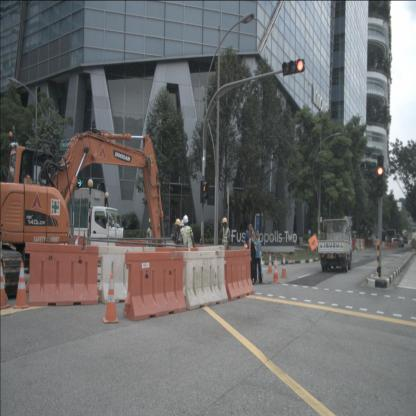barrier: (25, 242, 102, 306), (124, 252, 186, 322), (98, 247, 156, 304), (184, 250, 228, 310), (224, 249, 254, 302), (356, 238, 361, 250), (351, 239, 356, 250), (360, 239, 364, 250), (362, 240, 366, 249)
cone: (102, 273, 118, 323), (13, 262, 29, 309), (0, 262, 10, 310), (272, 257, 280, 282), (280, 256, 288, 278), (267, 253, 273, 274), (374, 243, 378, 251), (384, 242, 388, 249), (384, 241, 387, 250), (381, 242, 384, 250), (388, 242, 391, 249), (387, 242, 389, 250)
